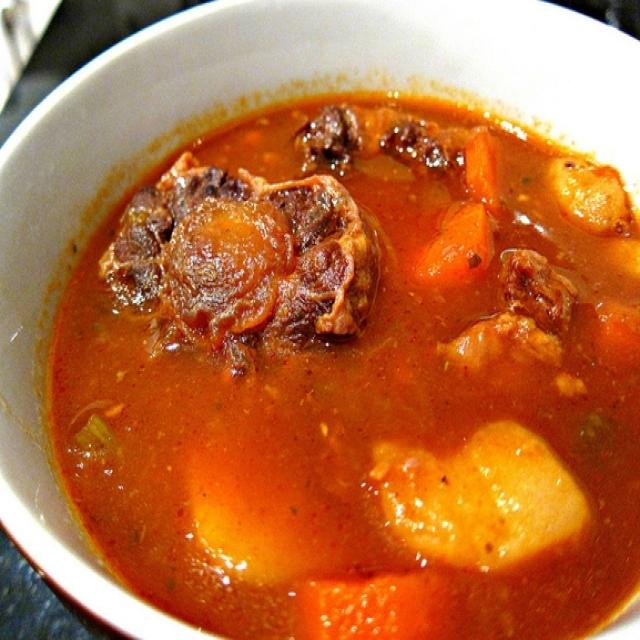汤锅炖物: (33, 24, 619, 625)
